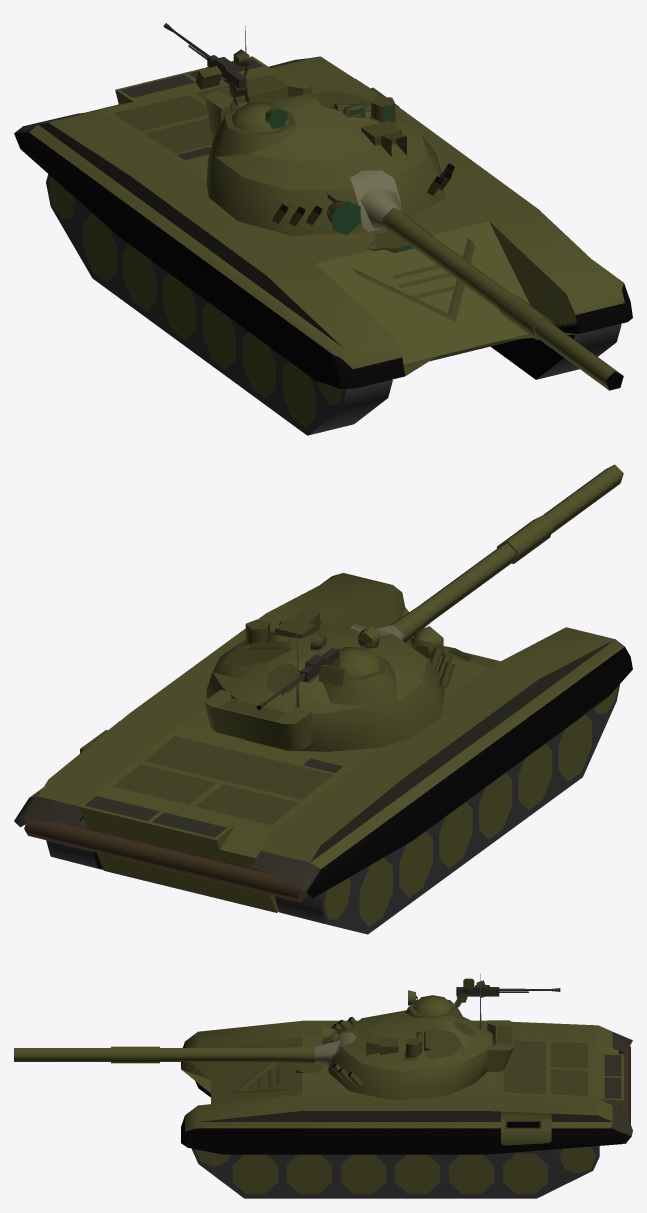
The picture shows the model from 3 angles, top to bottom: view 1: azimuth 30°, elevation 25°; view 2: azimuth 150°, elevation 25°; view 3: azimuth 270°, elevation 25°; orthographic projection. The views are drawn at different scales.
Visible parts, largest first — view 1: Body, Turret; view 2: Body, Turret; view 3: Body, Turret.
Part boxes in pixels (x1,y1,x2,y2): Body: (14,56,632,435); Turret: (163,23,623,390); Body: (14,573,632,934); Turret: (204,464,623,751); Body: (181,1020,632,1198); Turret: (14,974,560,1099).
Size of the model in its own units: 3.59 by 3.12 by 9.66.
